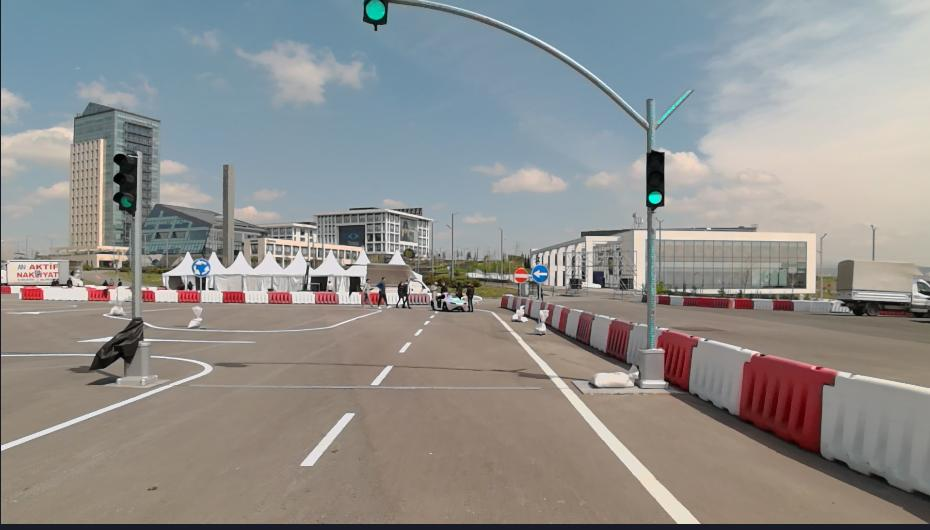nesne: (0, 294, 705, 529), (255, 308, 704, 525), (0, 303, 437, 524), (476, 309, 700, 526), (659, 326, 925, 492), (397, 2, 697, 149), (0, 352, 211, 448), (818, 371, 925, 490), (738, 353, 830, 453), (549, 304, 647, 369), (140, 307, 381, 331), (569, 348, 682, 395), (836, 257, 929, 314), (91, 313, 164, 385), (689, 335, 749, 417), (301, 409, 356, 463), (0, 258, 80, 286), (660, 331, 695, 391), (203, 289, 361, 301), (112, 150, 142, 213), (646, 208, 658, 350), (366, 264, 427, 291), (738, 298, 852, 312), (19, 286, 130, 300), (126, 212, 140, 318), (603, 317, 632, 362), (645, 150, 665, 207), (624, 323, 649, 368), (358, 0, 392, 33), (660, 293, 726, 309), (587, 314, 610, 351), (429, 290, 467, 311), (571, 312, 594, 345), (792, 300, 846, 313), (357, 273, 376, 307), (369, 361, 394, 386), (41, 285, 87, 298), (0, 351, 96, 357), (563, 308, 581, 339), (394, 277, 411, 307), (374, 274, 390, 305), (684, 296, 726, 307), (532, 309, 550, 334), (548, 302, 562, 330), (465, 278, 476, 310), (192, 258, 211, 276), (188, 305, 203, 327), (557, 307, 568, 336), (510, 302, 527, 320), (512, 266, 530, 283), (770, 298, 793, 311), (531, 265, 549, 281), (243, 290, 268, 301), (268, 291, 293, 302), (20, 286, 41, 299), (221, 291, 245, 302), (292, 292, 316, 303), (337, 290, 359, 302), (315, 292, 338, 303), (109, 288, 130, 300), (89, 287, 109, 299), (202, 290, 222, 302), (411, 292, 429, 305), (155, 289, 176, 300), (397, 338, 413, 352), (453, 277, 464, 297), (109, 303, 126, 314), (753, 299, 773, 308), (178, 291, 197, 300), (735, 299, 752, 308), (528, 298, 536, 317), (499, 294, 509, 308), (198, 276, 202, 310), (439, 276, 448, 291), (538, 280, 541, 324), (141, 290, 154, 300), (326, 277, 335, 291), (430, 280, 439, 293), (517, 282, 522, 305), (506, 296, 514, 310), (186, 278, 196, 289), (659, 295, 670, 305), (176, 276, 184, 289), (670, 296, 683, 304), (101, 274, 111, 284), (51, 276, 61, 285), (511, 296, 517, 311), (515, 297, 521, 311), (727, 297, 734, 309), (10, 286, 20, 294), (0, 286, 11, 293), (66, 275, 73, 286), (116, 275, 123, 285)
